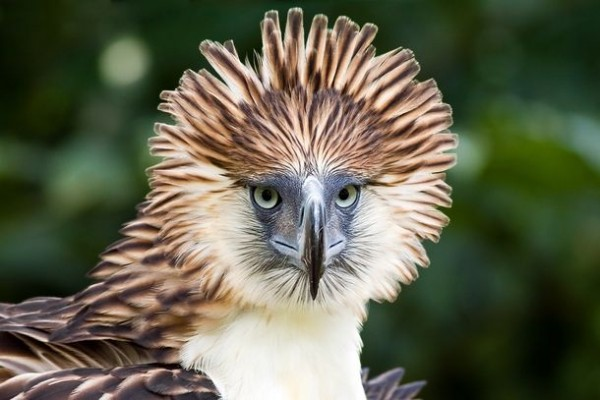Pengoyak Daging: (282, 187, 346, 303)
